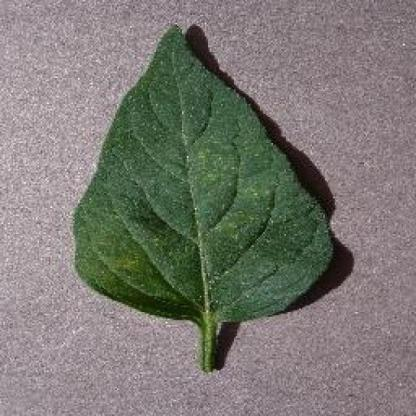Tomato_Spider_Mites: (75, 26, 330, 322)
